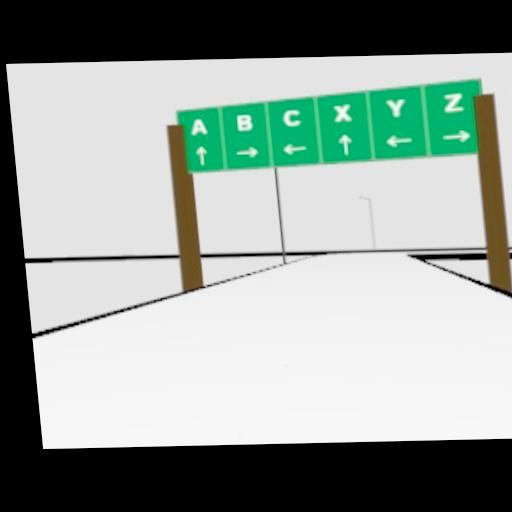A: (189, 118, 210, 136)
B: (235, 112, 253, 130)
C: (280, 108, 303, 126)
Left: (384, 132, 414, 147), (280, 142, 307, 154)
Right: (442, 128, 470, 142), (234, 145, 260, 157)
Straight: (336, 132, 353, 157), (193, 144, 209, 166)
X: (331, 101, 352, 120)
Y: (384, 97, 406, 116)
Z: (442, 91, 464, 111)
